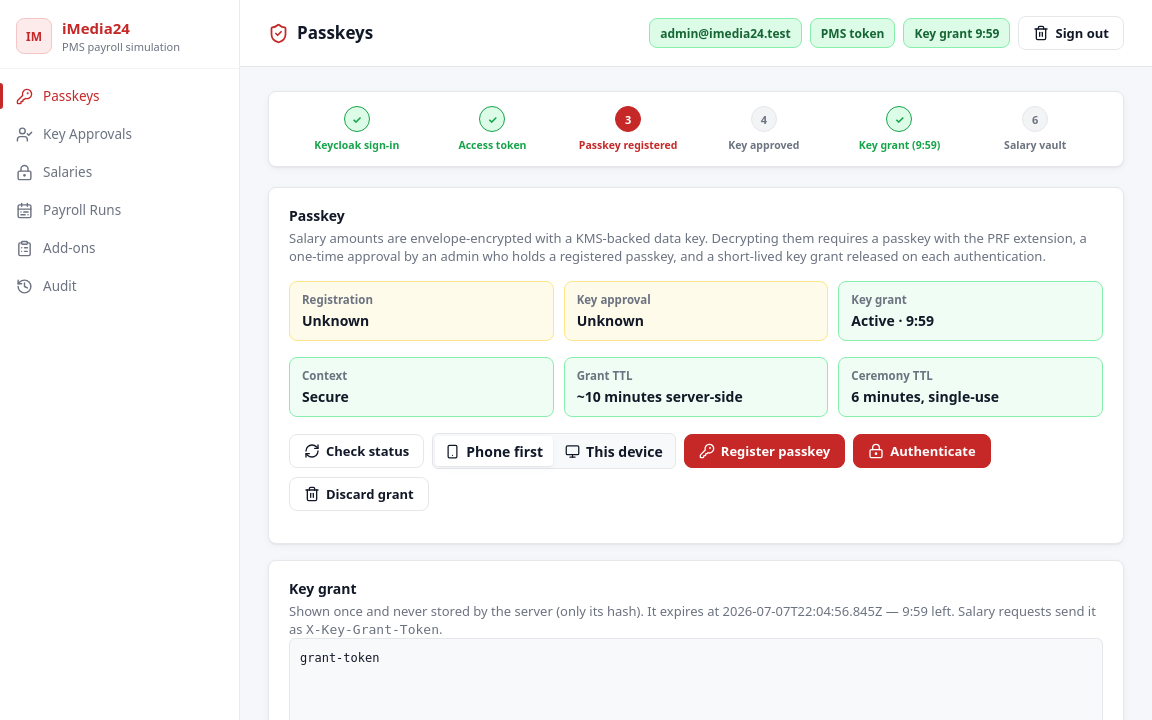
Test: PMS real API app › sends the key grant header when the salaries section opens with a selected employee
expect the text "PMS token" is shown: met, box [810,18,895,48]
Click the button "Salaries" at (120, 172), box [0,153,239,191]
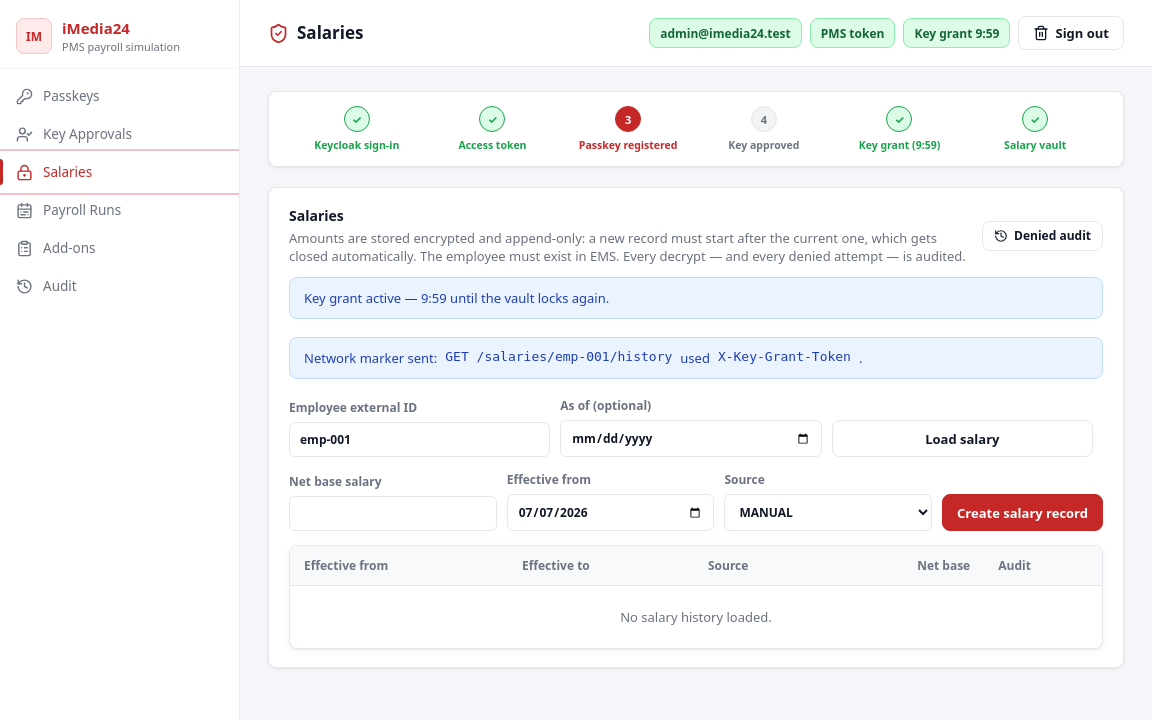
expect the text "Network marker sent" is shown: met, box [304,349,437,367]
